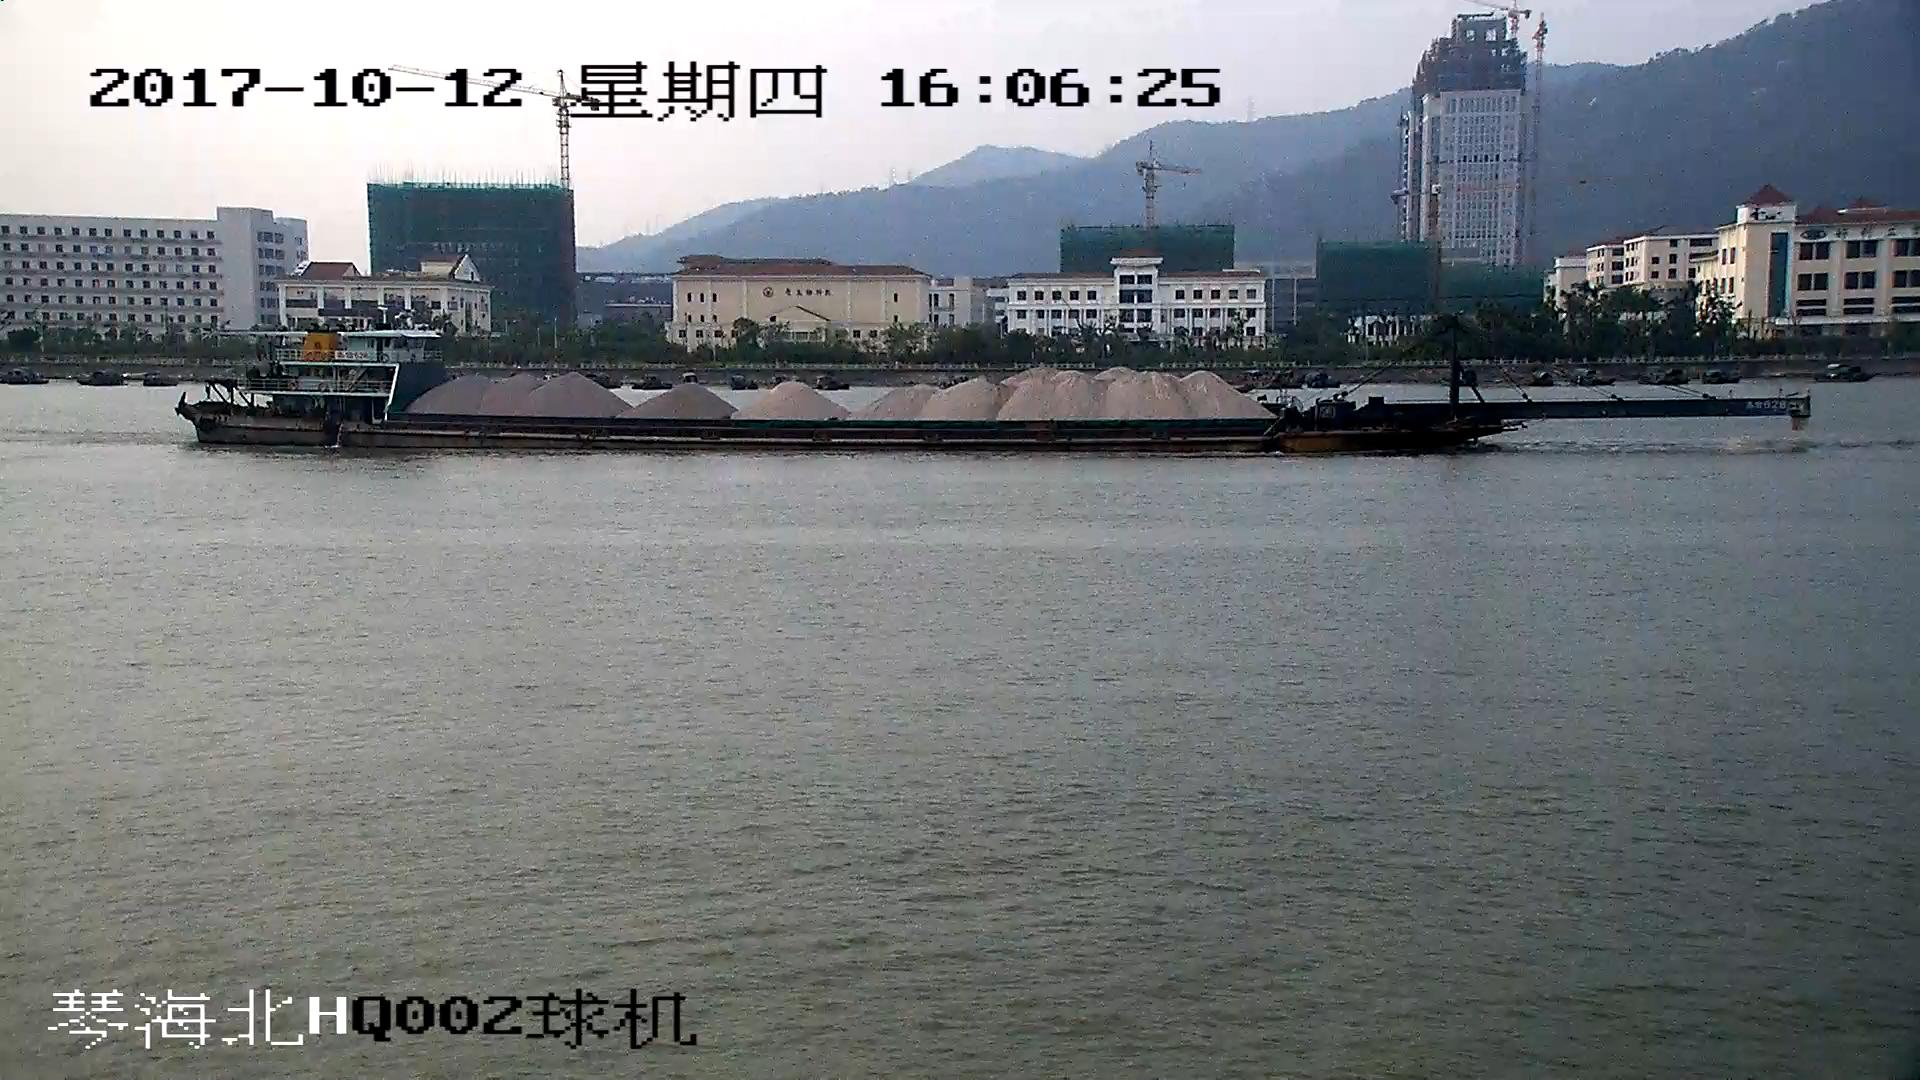ore carrier: (179, 309, 1811, 450)
